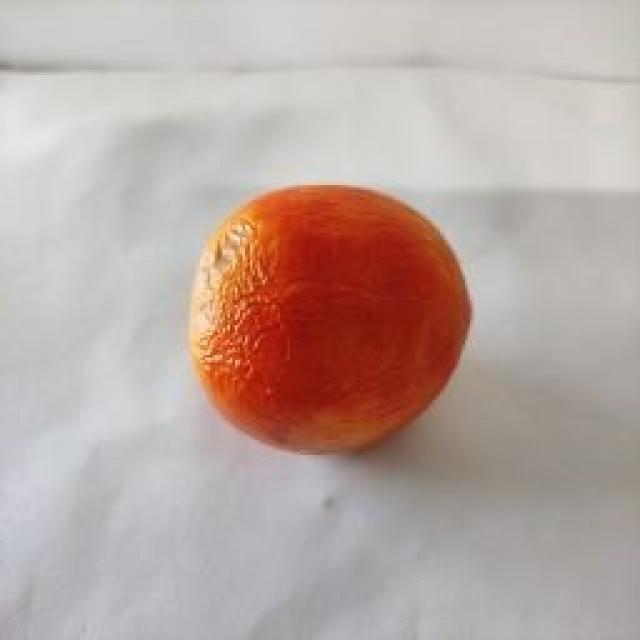overripe: (187, 182, 477, 456)
